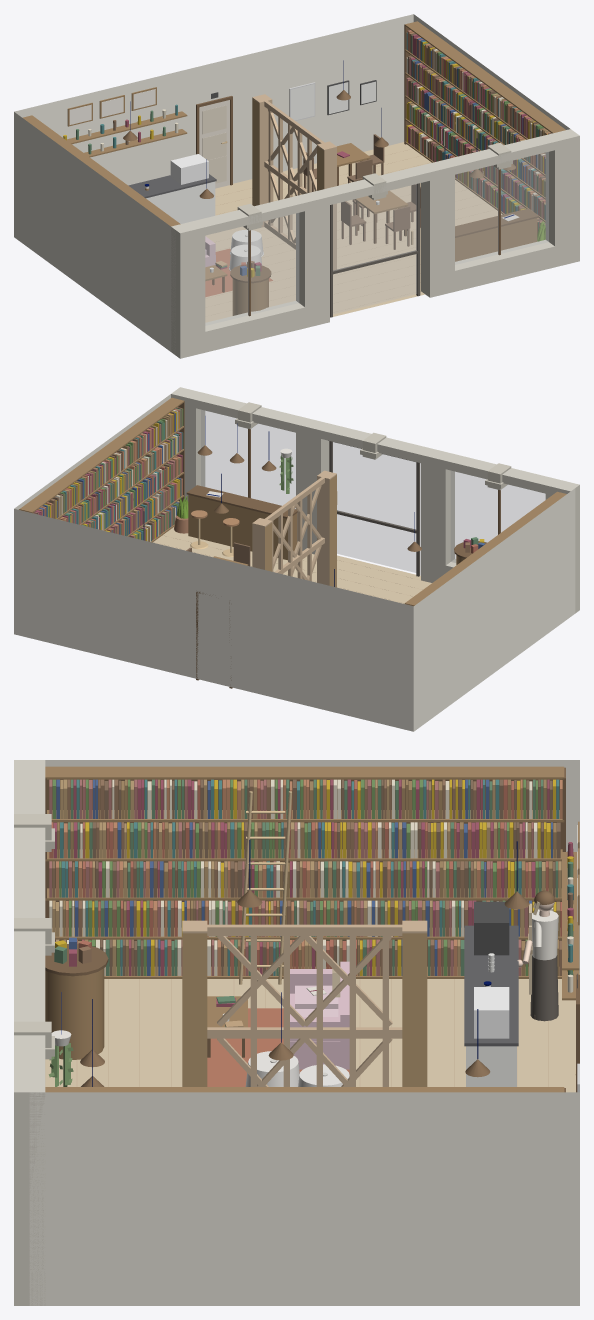
The model's file is cafe_litteraire.glb.
The picture shows the model from 3 angles, top to bottom: view 1: azimuth 30°, elevation 25°; view 2: azimuth 150°, elevation 25°; view 3: azimuth 270°, elevation 25°; orthographic projection. The views are drawn at different scales.
Size of the model in its own units: 10 by 3.07 by 7.2.
